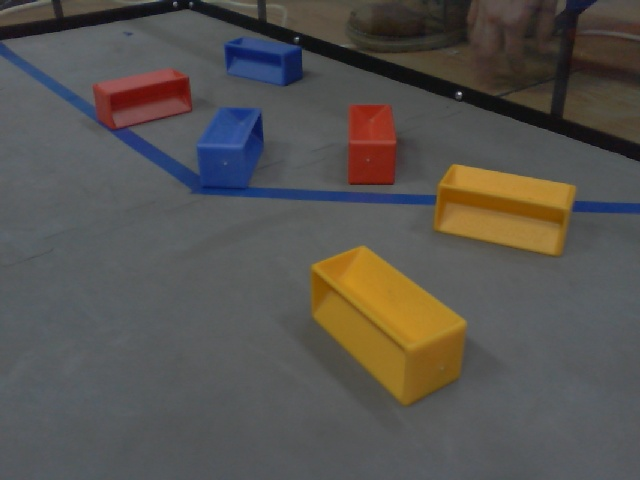BlueSample: (193, 100, 265, 194), (221, 31, 307, 88)
RedSample: (90, 67, 193, 128), (344, 98, 399, 187)
YellowSample: (308, 242, 468, 404), (427, 159, 579, 263)
